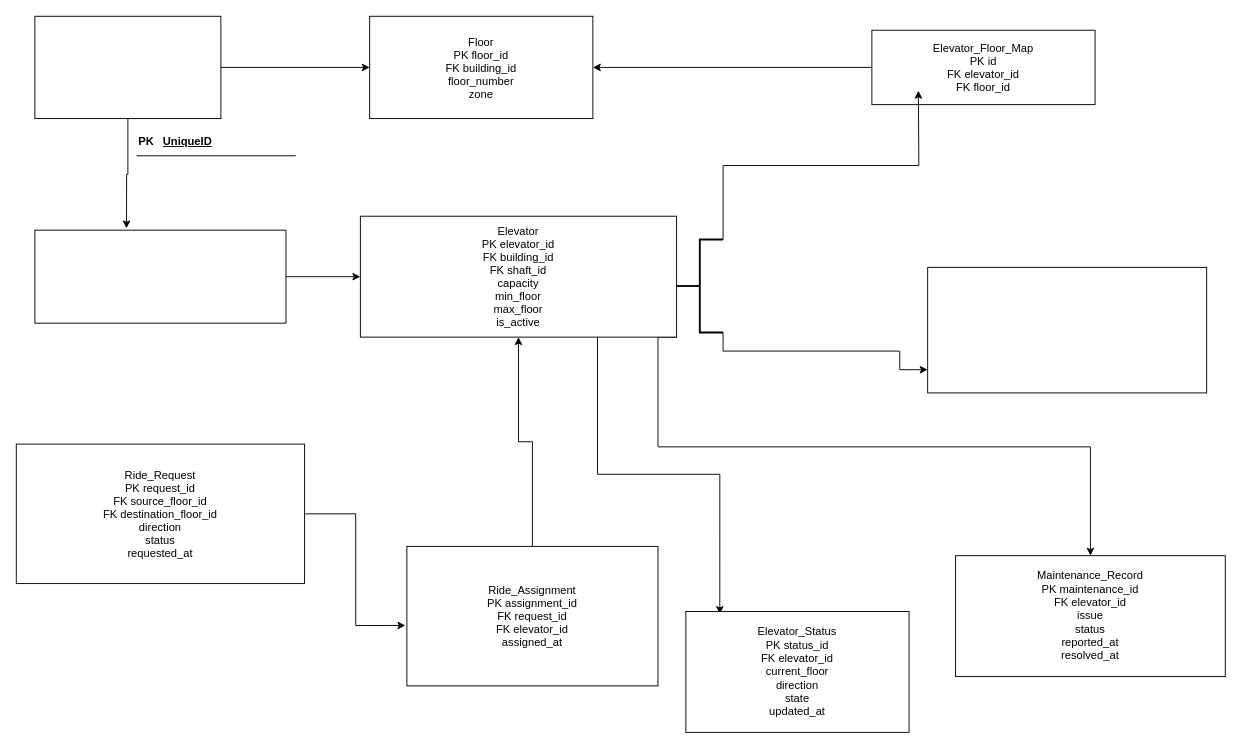
Image size: 1242x749. Some labels were removed from this diagram. The box of each missing label's shape, as (x1, y1, x2, y2) in pixels:
Building PK building_id name location: (34, 15, 221, 119)
Ride_Log PK ride_id FK elevator_id FK request_id start_time end_time: (927, 266, 1207, 393)
Shaft PK shaft_id FK building_id shaft_number: (34, 229, 286, 323)
